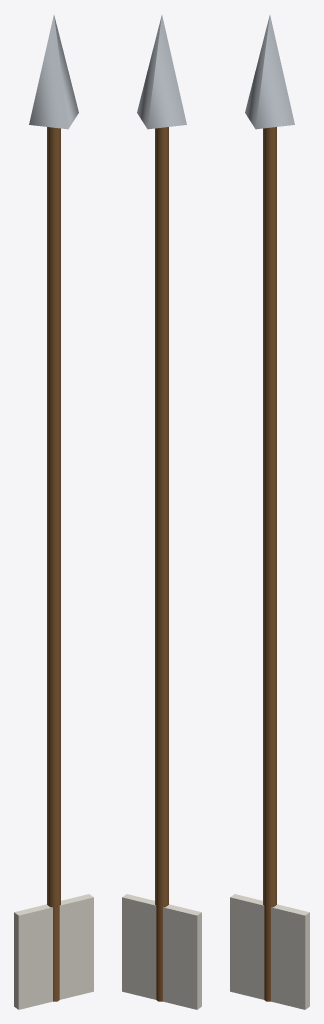
File: mongol-arrow.glb
3 renders of one model, left to right at view 1: azimuth 30°, elevation 25°; view 2: azimuth 150°, elevation 25°; view 3: azimuth 330°, elevation 25°, orthographic.
Visible parts, largest first — view 1: Shaft, Fletching, Tip; view 2: Shaft, Fletching, Tip; view 3: Shaft, Fletching, Tip.
Part boxes in pixels (x1=…): Shaft: x1=47, y1=127, x2=60, y2=1001; Fletching: x1=14, y1=894, x2=93, y2=1009; Tip: x1=29, y1=15, x2=78, y2=129; Shaft: x1=155, y1=127, x2=168, y2=1001; Fletching: x1=122, y1=894, x2=201, y2=1009; Tip: x1=137, y1=15, x2=186, y2=129; Shaft: x1=263, y1=127, x2=276, y2=1001; Fletching: x1=230, y1=894, x2=309, y2=1009; Tip: x1=245, y1=15, x2=294, y2=129.
Bounding box in the file's own units: 0.075 × 0.94 × 0.05.
